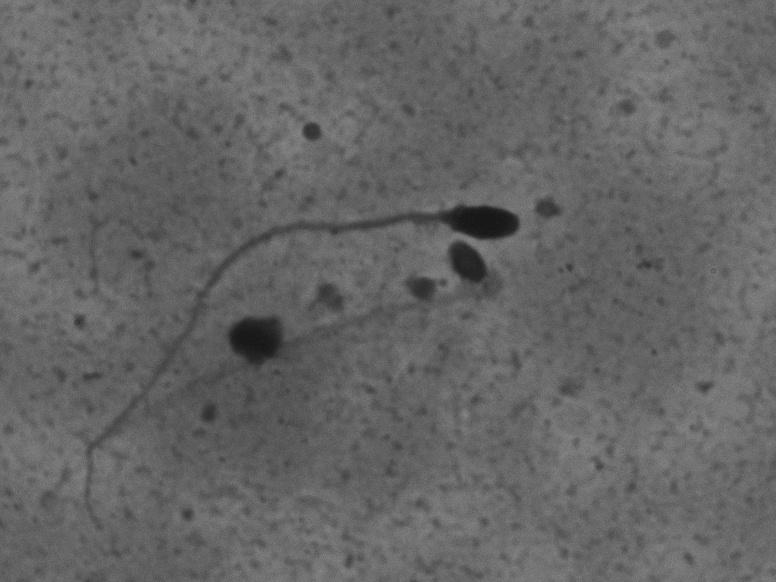Abnormal: (61, 193, 526, 543)
